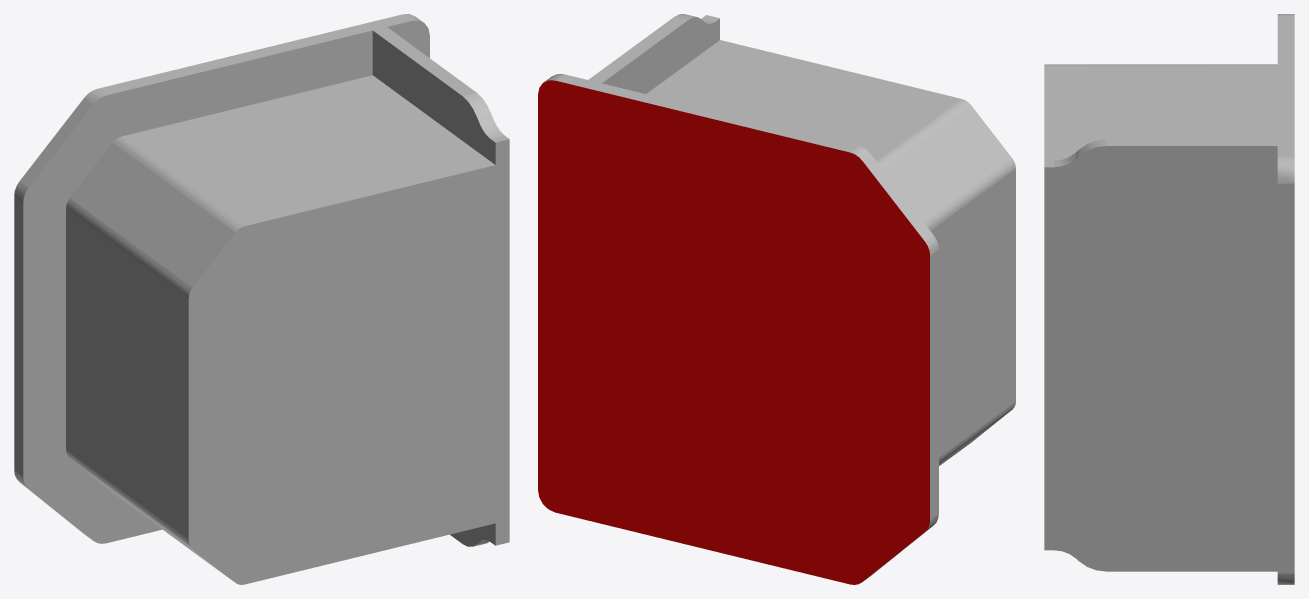
The model's file is Driver_Base_P1.dae.
The picture shows the model from 3 angles, left to right: view 1: azimuth 30°, elevation 25°; view 2: azimuth 150°, elevation 25°; view 3: azimuth 270°, elevation 25°; orthographic projection. The views are drawn at different scales.
Parts seen in each view (by area): view 1: Node_000002CA53F9B4B0; view 2: Node_000002CA53F9B4B0 (×2); view 3: Node_000002CA53F9B4B0.
Part boxes in pixels (bbox=[...]): Node_000002CA53F9B4B0: bbox=[14, 14, 509, 584]; Node_000002CA53F9B4B0 (×2): bbox=[538, 14, 1015, 584]; Node_000002CA53F9B4B0: bbox=[1044, 14, 1294, 584].
Size of the model in its own units: 0.57 by 0.6 by 0.32.
